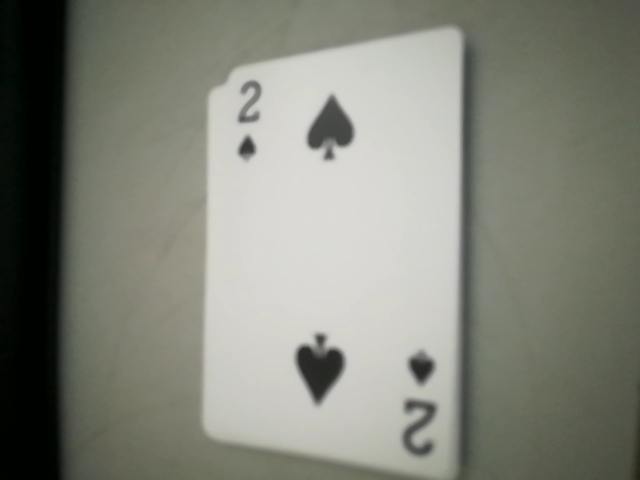ht 2: (393, 335, 449, 472), (216, 72, 288, 176)
